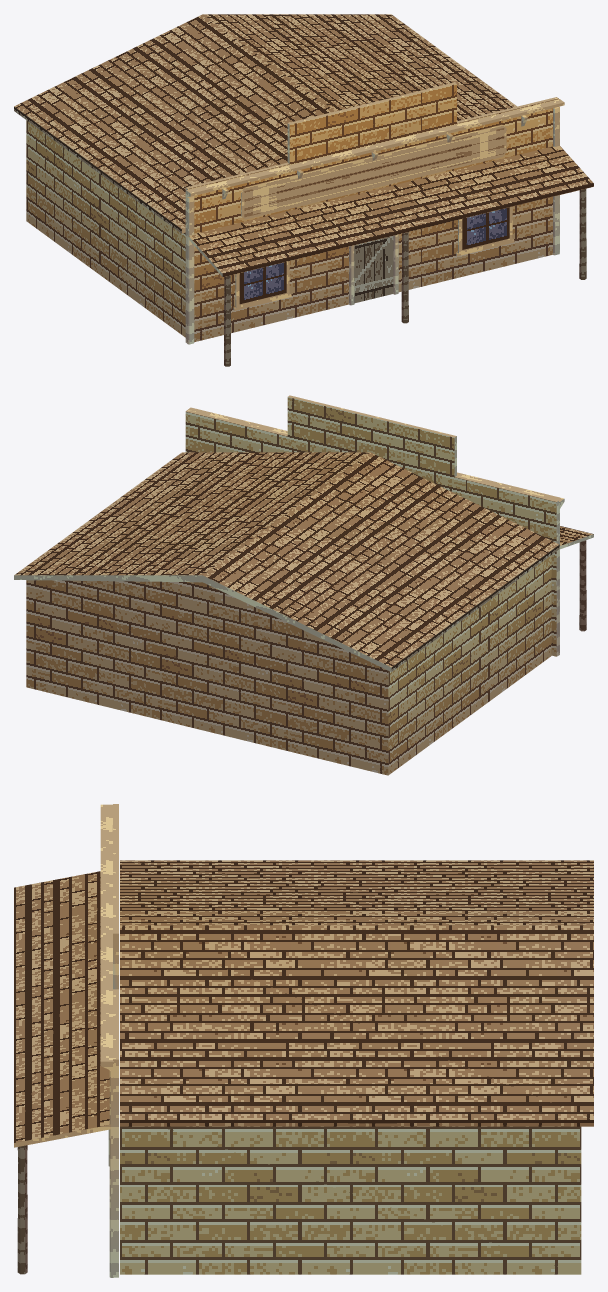
Rendered from wtown.store__brick.glb.
3 views of the same model, one above another, from view 1: azimuth 30°, elevation 25°; view 2: azimuth 150°, elevation 25°; view 3: azimuth 270°, elevation 25° (orthographic). The views are drawn at different scales.
Visible parts, largest first — view 1: kit_roof, kit_front, kit_porch, kit_body, kit_card_panes, kit_trim, kit_windows; view 2: kit_roof, kit_body, kit_front, kit_porch, kit_trim; view 3: kit_roof, kit_body, kit_porch, kit_trim, kit_front.
Part boxes in pixels (<box>): kit_roof: <box>14,14,516,233</box>; kit_front: <box>185,82,558,342</box>; kit_porch: <box>188,146,593,366</box>; kit_body: <box>26,120,185,337</box>; kit_card_panes: <box>239,128,509,304</box>; kit_trim: <box>186,99,564,344</box>; kit_windows: <box>233,206,514,310</box>; kit_roof: <box>14,452,559,671</box>; kit_body: <box>26,555,551,775</box>; kit_front: <box>185,395,558,656</box>; kit_porch: <box>560,526,593,631</box>; kit_trim: <box>188,407,564,655</box>; kit_roof: <box>120,860,593,1126</box>; kit_body: <box>120,1126,581,1274</box>; kit_porch: <box>14,871,110,1274</box>; kit_trim: <box>100,804,113,1277</box>; kit_front: <box>113,804,118,1277</box>.
Size of the model in its own units: 12 by 5.9 by 11.32.
Materials: 7 (7 with a texture image).
